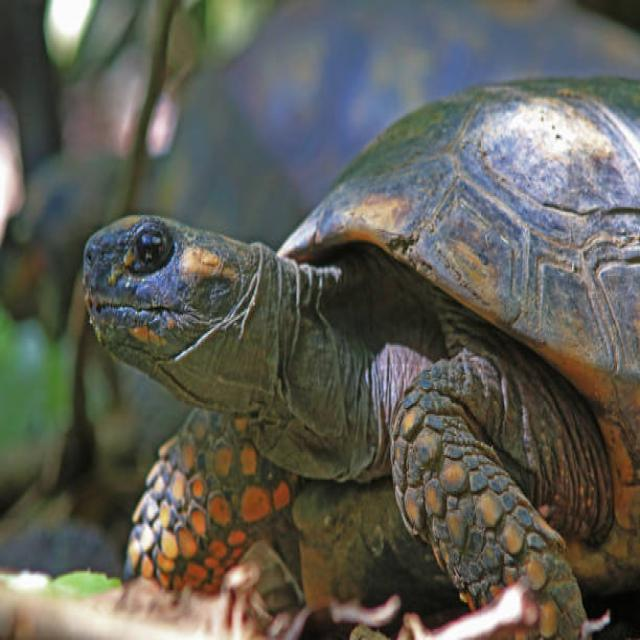tortoise: (224, 54, 640, 627), (42, 176, 286, 415), (378, 370, 586, 640), (112, 400, 316, 622)
